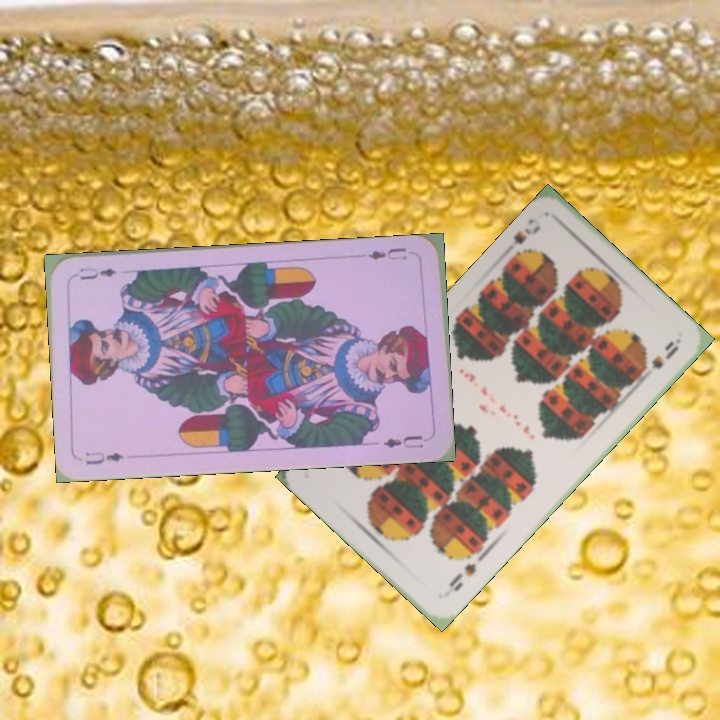EU: (364, 243, 409, 263), (81, 448, 126, 468)
S9: (498, 221, 544, 263), (444, 559, 479, 595)
